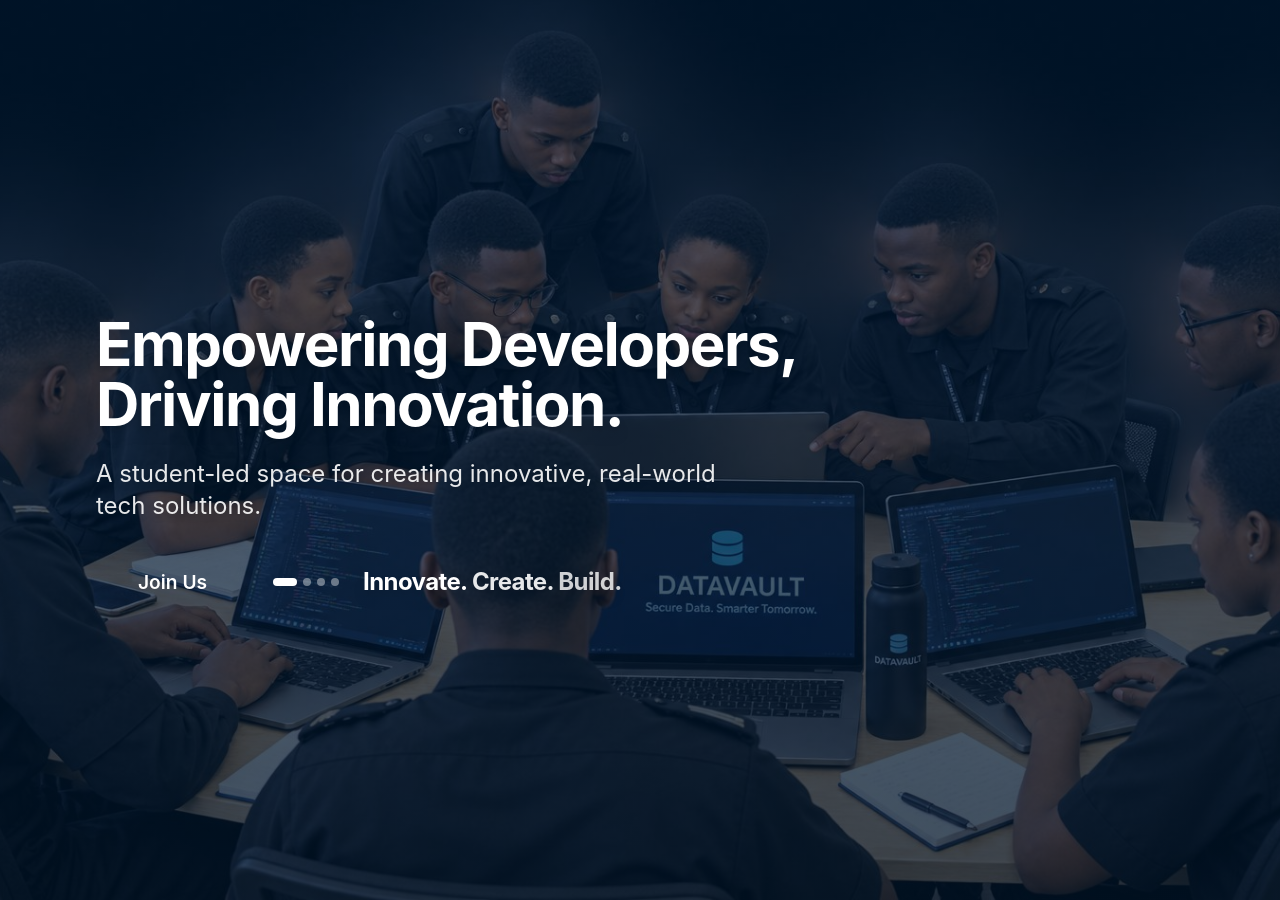
<HeroSection /> rotating headline › clicking a dot advances to that slide
Click the button named "Show message 2 of 4" at (307, 582), box [303, 578, 311, 586]
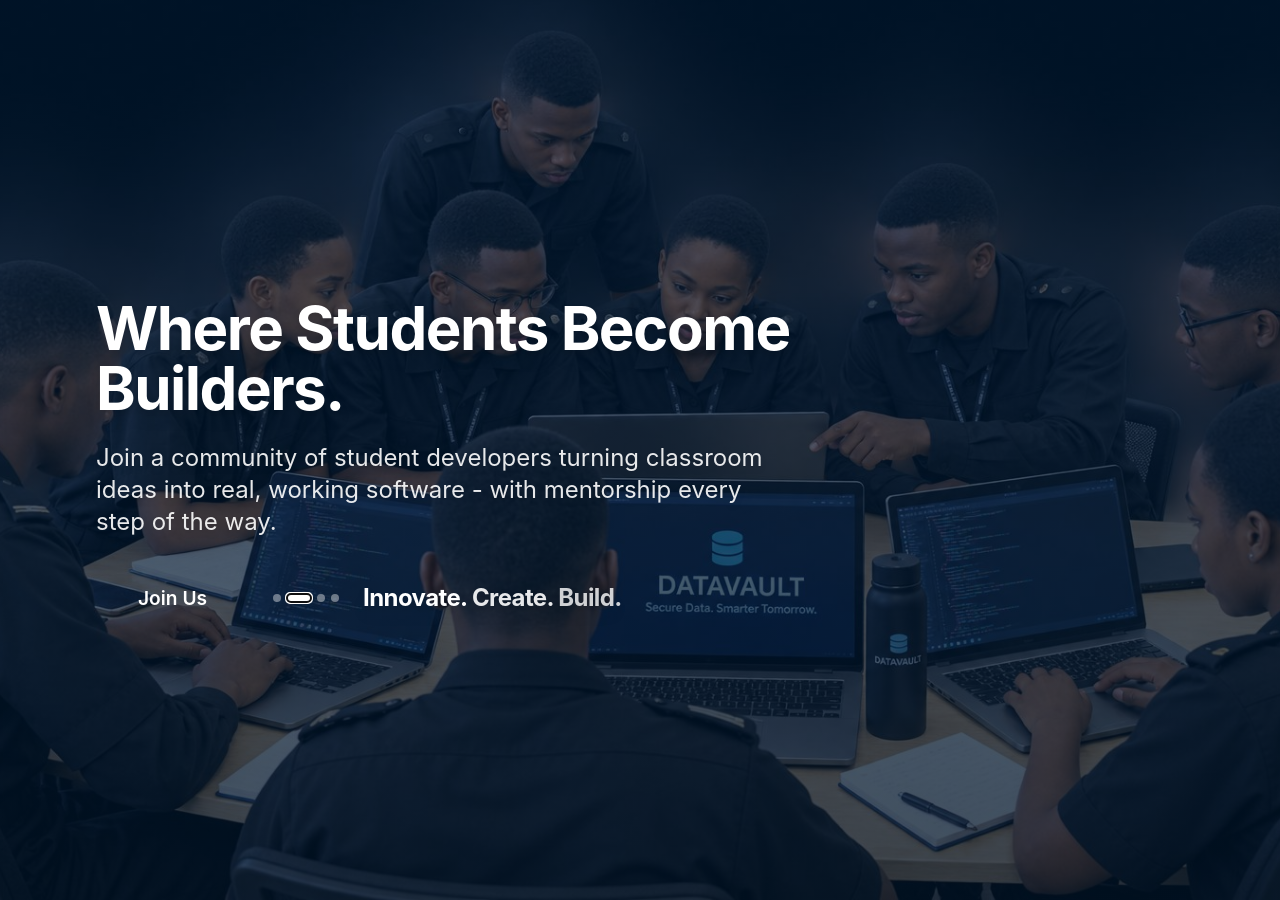
Expected: the heading "Where Students Become Builders." is shown, [96, 298, 864, 418]
Expected: the heading "Empowering Developers, Driving Innovation." is gone
